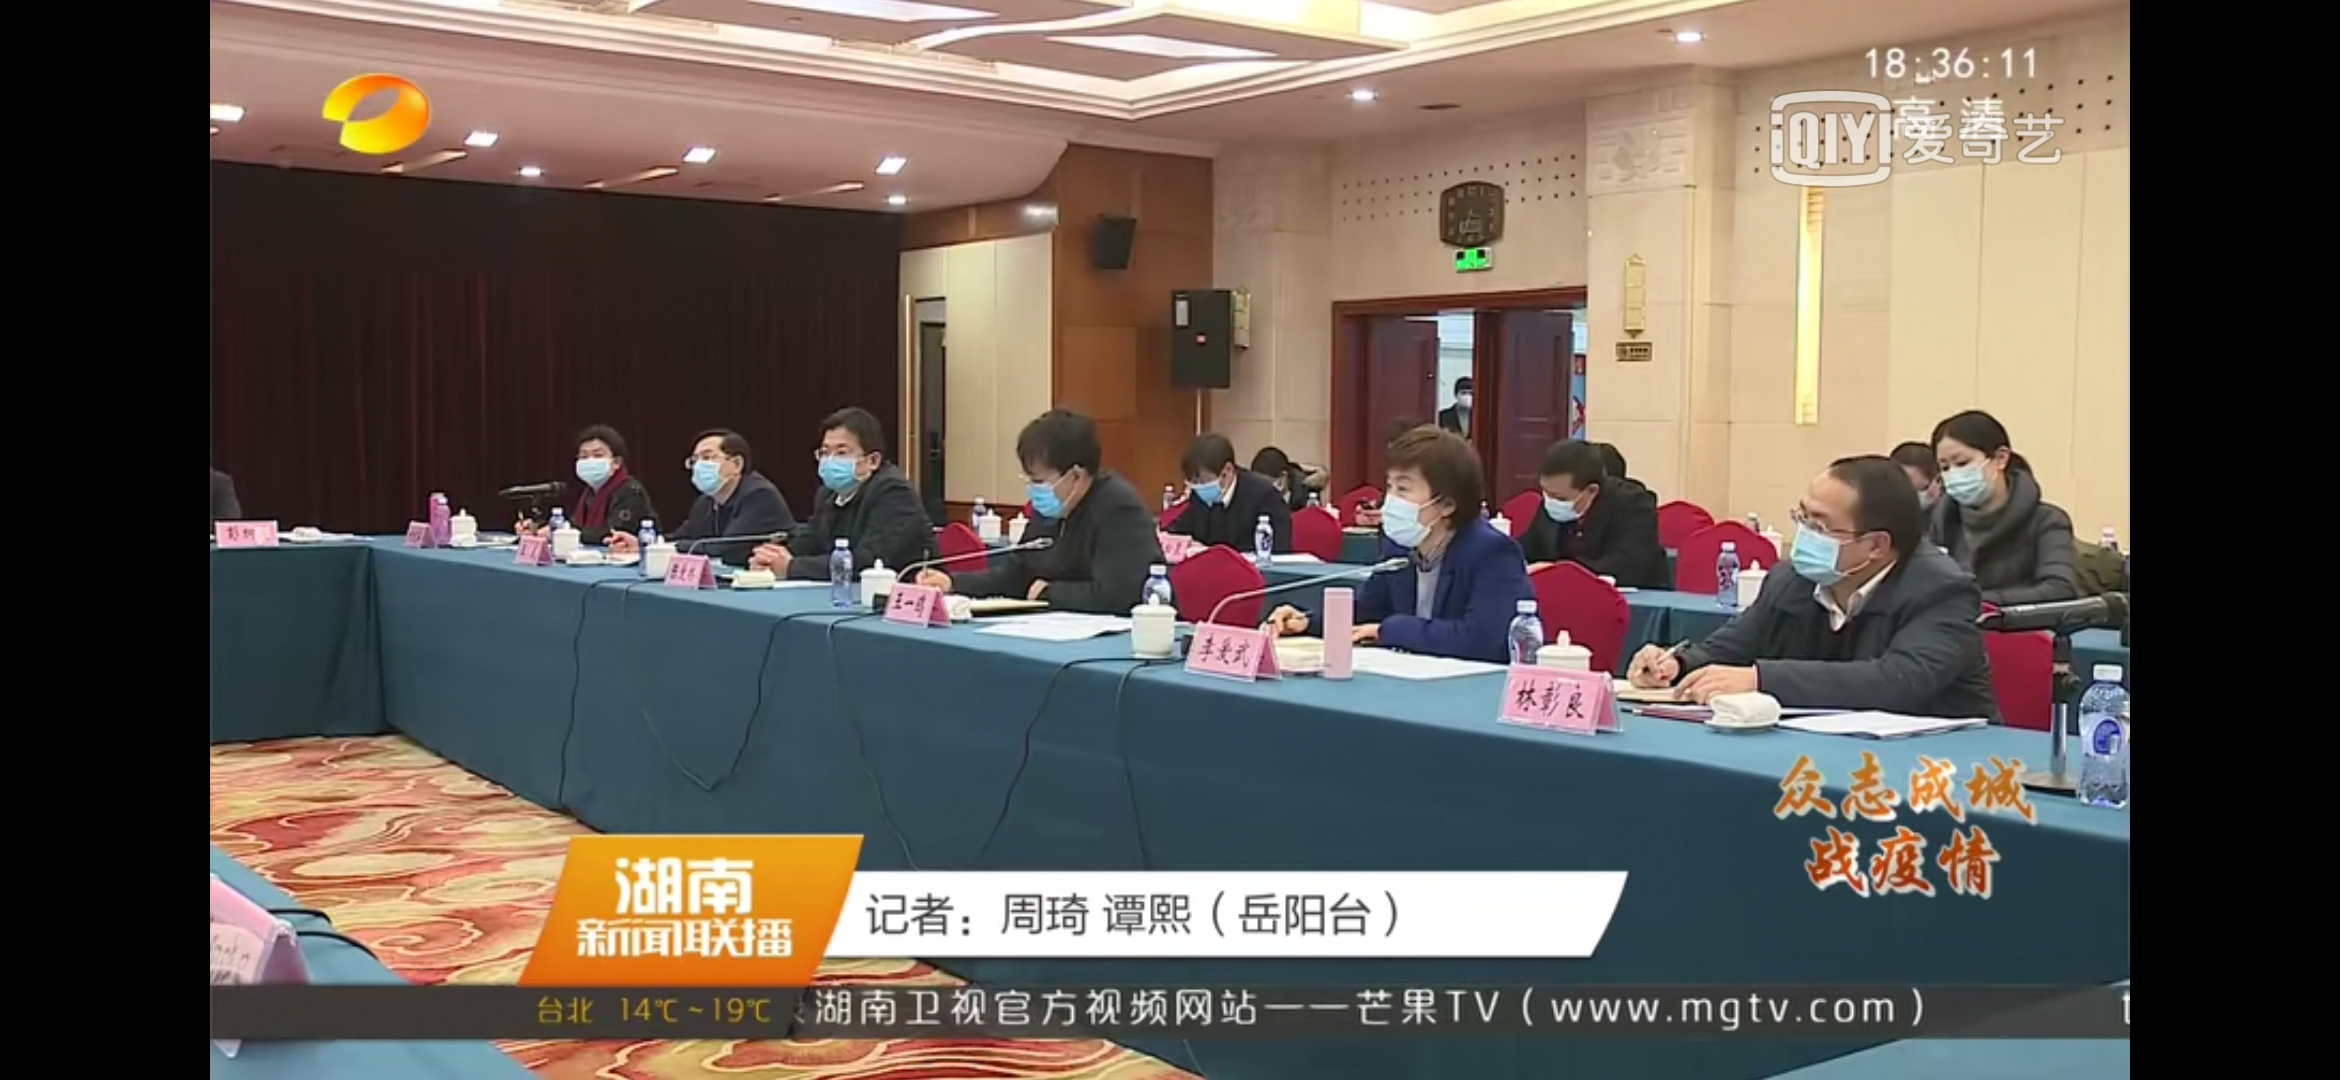correctlyWear: (1791, 491, 1894, 588), (1377, 467, 1458, 547), (1936, 443, 2010, 507), (1016, 456, 1085, 521), (810, 436, 880, 494), (683, 445, 745, 497), (1539, 477, 1600, 522), (1180, 456, 1236, 506), (575, 445, 622, 488), (1454, 383, 1473, 407)
